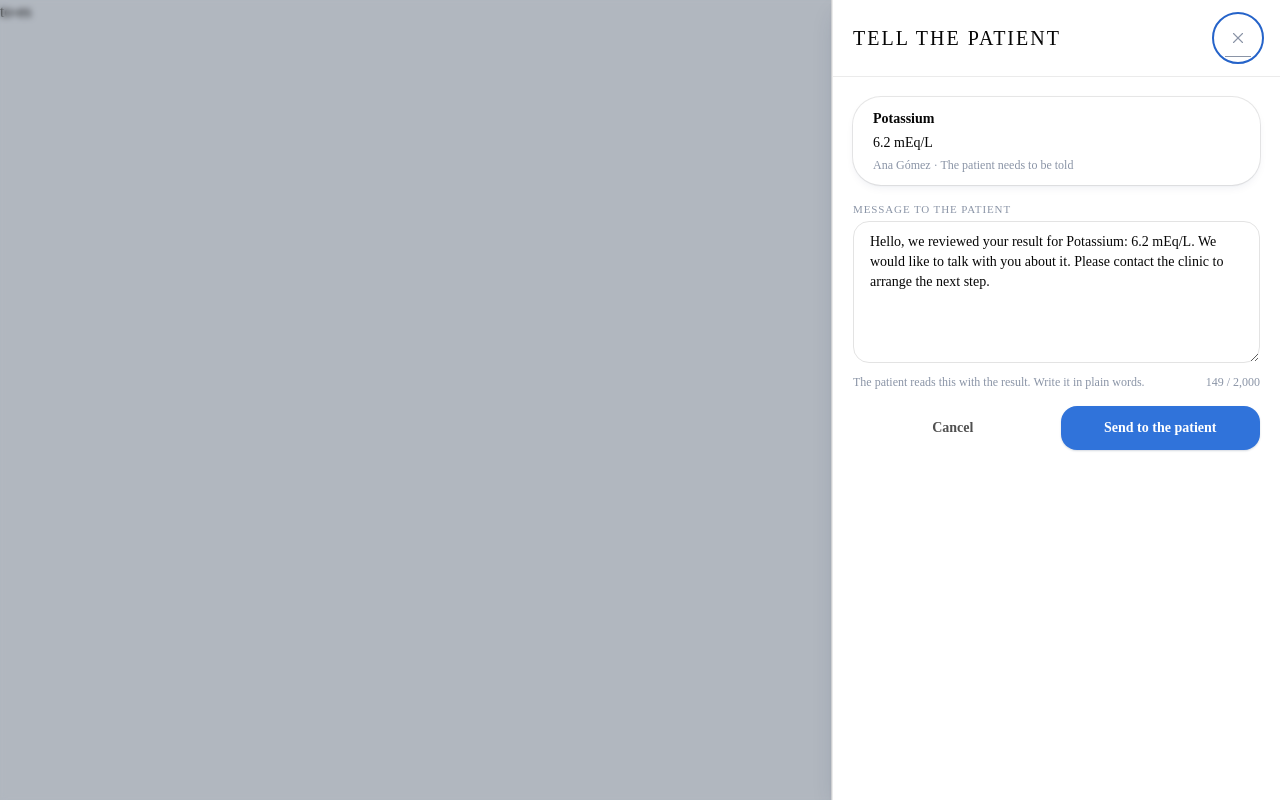
Test: InformPatientSheet › sends the trimmed message with no timeline entry, so the server makes one, then tells the page
The image size is (1280, 800).
Replace the text in the text box labelled "Message to the patient" with "  Hola, llámenos.  " at {"x": 1056, "y": 292}, box [853,221,1260,363]
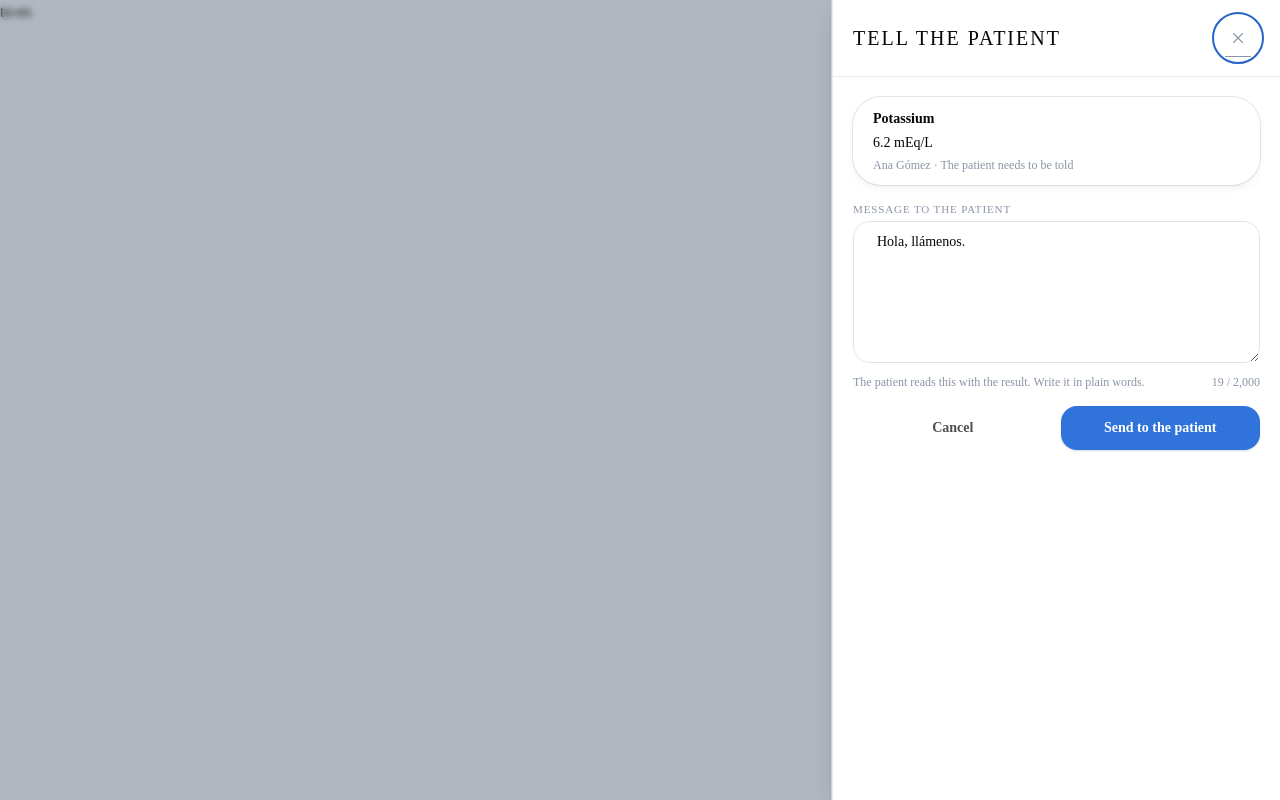
Click the button "Send to the patient" at {"x": 1160, "y": 428}, box [1060,406,1260,450]
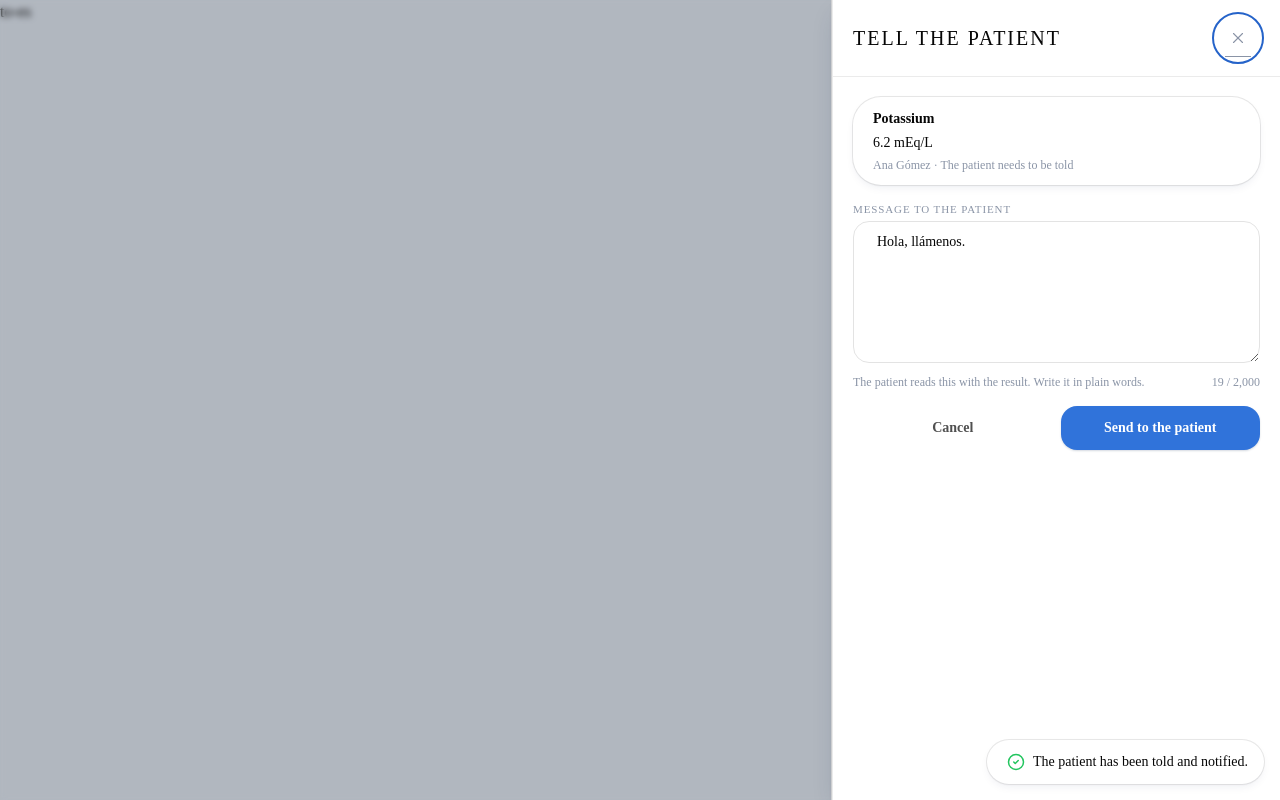
Result: the text "The patient has been told and notified." is shown at [987,740,1264,784]
